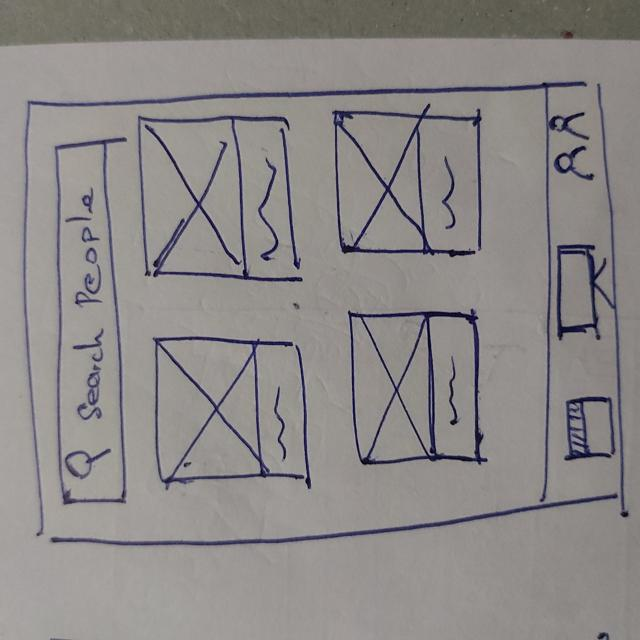BottomNavBar: (542, 84, 622, 503)
BottomNavItems: (546, 224, 615, 356), (550, 377, 621, 491), (547, 95, 602, 193)
CardView: (133, 112, 299, 281), (152, 335, 310, 483), (335, 108, 482, 257), (349, 311, 482, 465)
EditText: (51, 141, 130, 505)
GridListView: (131, 104, 534, 503)
Icon: (553, 242, 610, 346), (563, 397, 616, 463), (553, 110, 596, 184), (64, 447, 115, 481)
Image: (135, 114, 248, 276), (154, 336, 260, 480), (336, 111, 428, 252), (351, 314, 433, 461)
MainLayout: (22, 81, 630, 544)
TextView: (250, 142, 284, 268), (265, 373, 295, 467), (433, 148, 461, 239), (442, 348, 468, 432)
